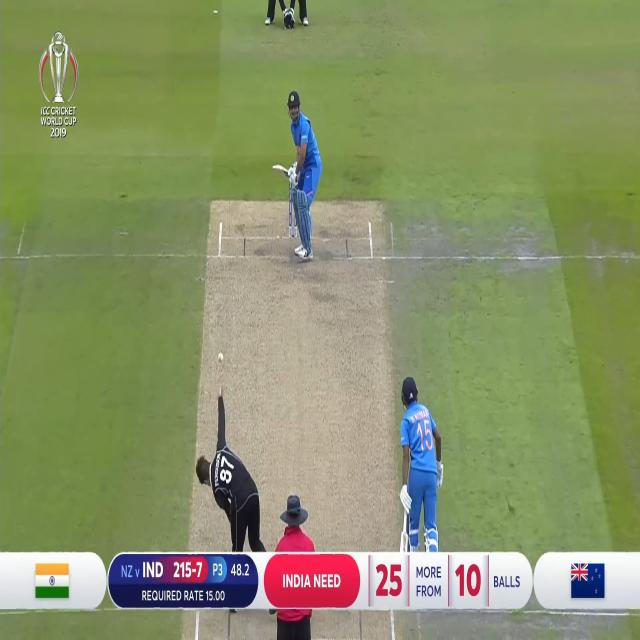ball: (214, 348, 228, 368)
